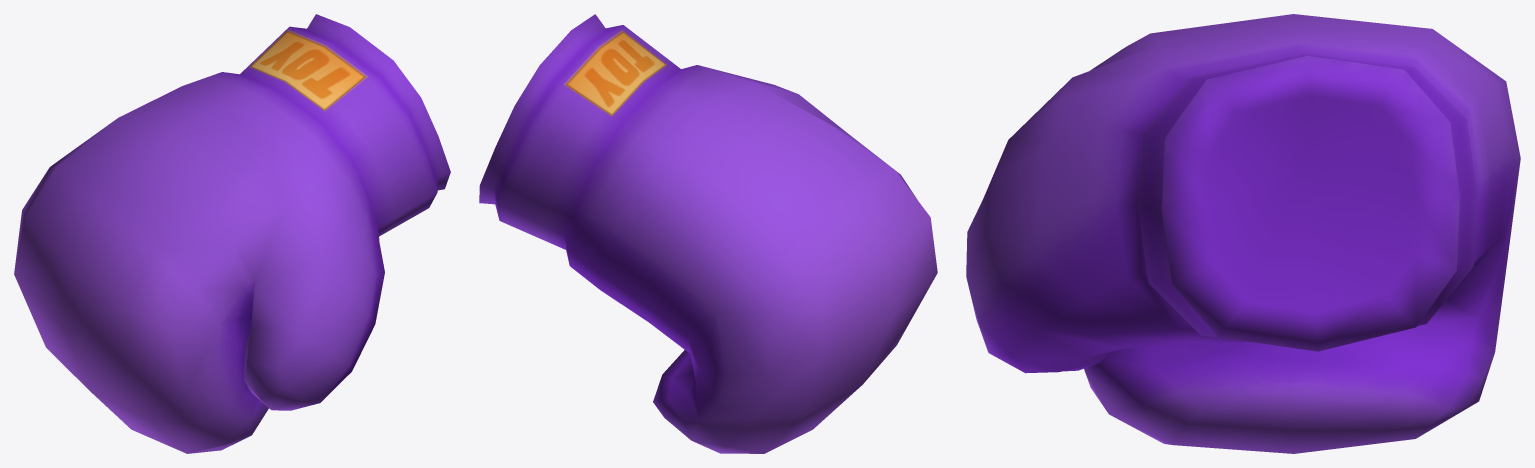
File: GLOVES_R.fbx
3 renders of one model, left to right at view 1: azimuth 30°, elevation 25°; view 2: azimuth 150°, elevation 25°; view 3: azimuth 270°, elevation 25°, orthographic. The views are drawn at different scales.
Parts seen in each view (by area): view 1: gloves.001; view 2: gloves.001; view 3: gloves.001.
Part boxes in pixels (x1,y1,x2,y2): gloves.001: [14, 14, 450, 453]; gloves.001: [479, 14, 937, 453]; gloves.001: [966, 14, 1520, 453].
Size of the model in its own units: 53.84 by 49.62 by 47.2.
